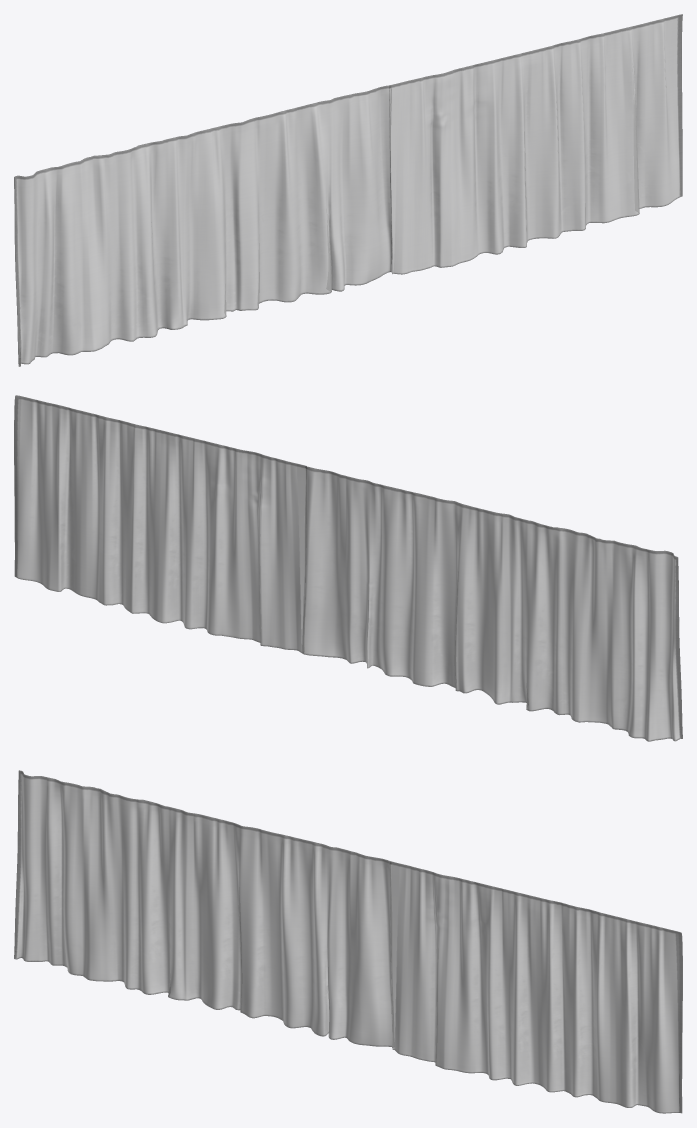
Rendered from curtainwith_opacity.glb.
3 renders of one model, top to bottom at view 1: azimuth 30°, elevation 25°; view 2: azimuth 150°, elevation 25°; view 3: azimuth 330°, elevation 25°, orthographic.
Visible parts, largest first — view 1: Object_2, Object_5, Object_4; view 2: Object_2, Object_5, Object_4; view 3: Object_2, Object_5, Object_4.
Boxes of the visible parts, bbox=[...] form: Object_2: bbox=[14, 85, 391, 366]; Object_5: bbox=[393, 14, 682, 274]; Object_4: bbox=[389, 83, 399, 274]; Object_2: bbox=[302, 466, 682, 741]; Object_5: bbox=[14, 395, 301, 652]; Object_4: bbox=[296, 463, 306, 652]; Object_2: bbox=[14, 770, 392, 1047]; Object_5: bbox=[394, 863, 682, 1113]; Object_4: bbox=[389, 861, 399, 1049].
Size of the model in its own units: 999 by 276 by 28.01.
1 material, 1 textured.
